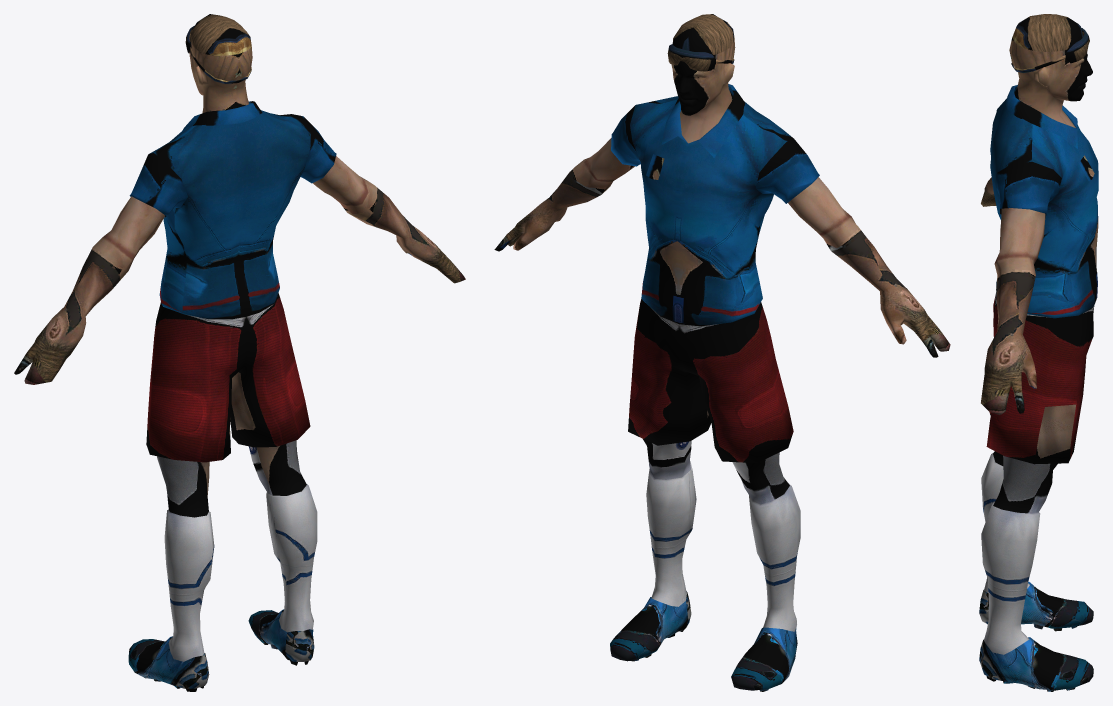
Rendered from jugador.glb.
3 views of the same model, side by side, from view 1: azimuth 30°, elevation 25°; view 2: azimuth 150°, elevation 25°; view 3: azimuth 270°, elevation 25° (orthographic).
Visible parts, largest first — view 1: object_0; view 2: object_0; view 3: object_0.
Part boxes in pixels (x1,y1,x2,y2): object_0: (14,14,465,691); object_0: (494,14,950,691); object_0: (979,14,1098,691).
Bounding box in the file's own units: 86.12 × 120 × 20.38.
Materials: 4 (4 with a texture image).
